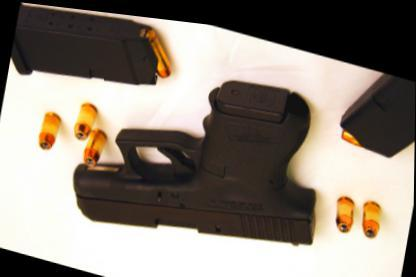pistol: (72, 31, 340, 275)
